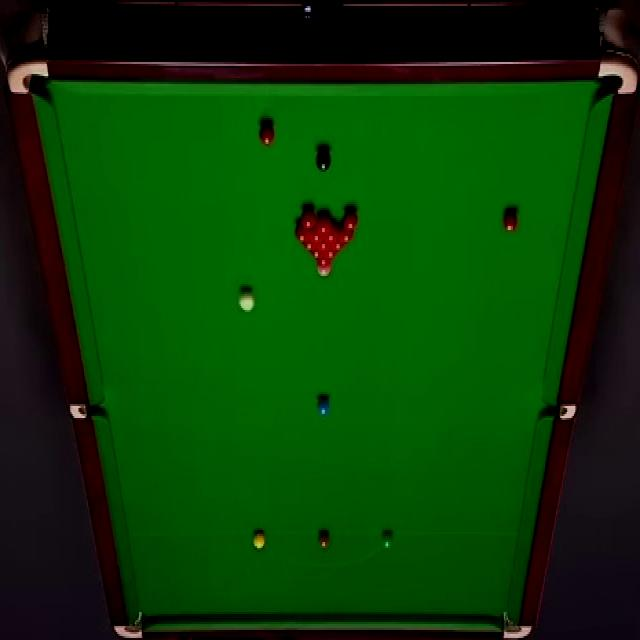black-ball: (316, 146, 332, 173), (317, 264, 332, 280)
blue-ball: (316, 394, 329, 416)
brown-ball: (318, 530, 330, 549)
green-ball: (382, 530, 398, 550)
red-ball: (258, 120, 274, 148), (343, 206, 358, 232), (300, 206, 316, 230), (503, 211, 519, 234), (316, 212, 332, 234), (294, 223, 310, 243), (325, 222, 337, 242), (338, 226, 353, 242), (310, 229, 324, 243), (302, 240, 318, 252), (314, 258, 332, 268), (310, 248, 323, 260), (324, 250, 339, 260), (331, 242, 346, 251), (318, 240, 331, 250)
white-ball: (238, 289, 255, 314)
yellow-ball: (252, 532, 266, 551)
